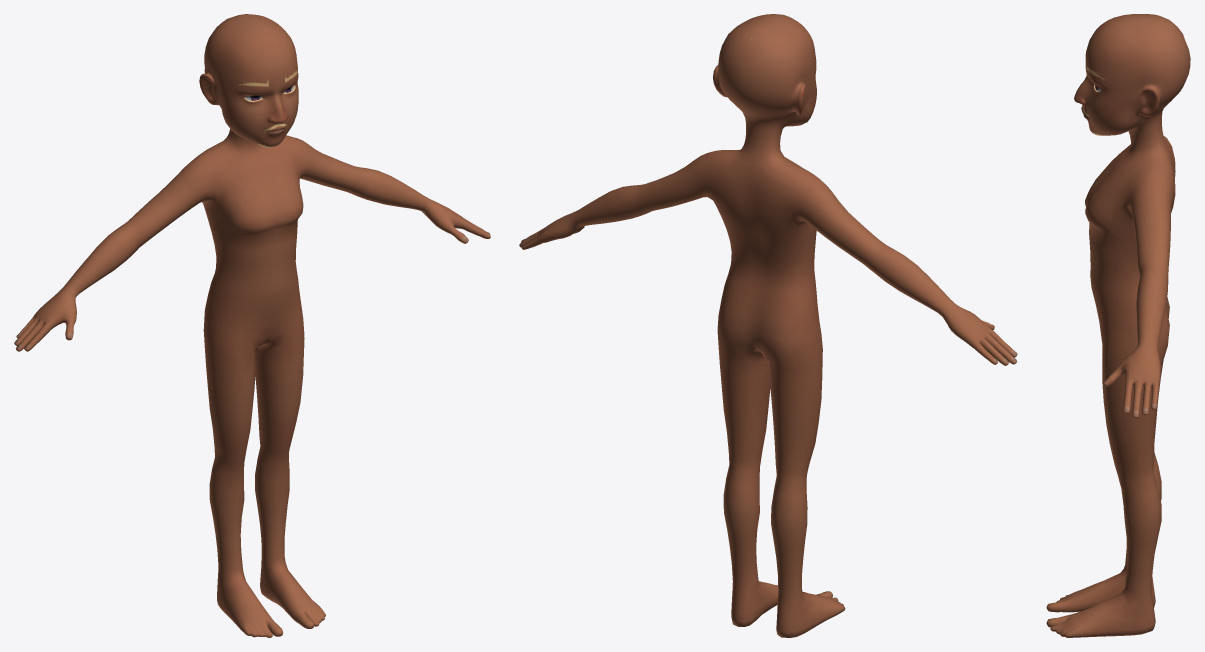
File: frame_0090.glb
The picture shows the model from 3 angles, left to right: view 1: azimuth 30°, elevation 25°; view 2: azimuth 150°, elevation 25°; view 3: azimuth 270°, elevation 25°; orthographic projection. The views are drawn at different scales.
Parts seen in each view (by area): view 1: frame_0090_head_geo; view 2: frame_0090_head_geo; view 3: frame_0090_head_geo.
Part boxes in pixels (box(x1,y1,x2,y2)): frame_0090_head_geo: box(14, 14, 490, 637); frame_0090_head_geo: box(519, 14, 1017, 637); frame_0090_head_geo: box(1046, 14, 1190, 637).
Bounding box in the file's own units: 1.28 × 1.5 × 0.3253.
Materials: 3 (3 with a texture image).
